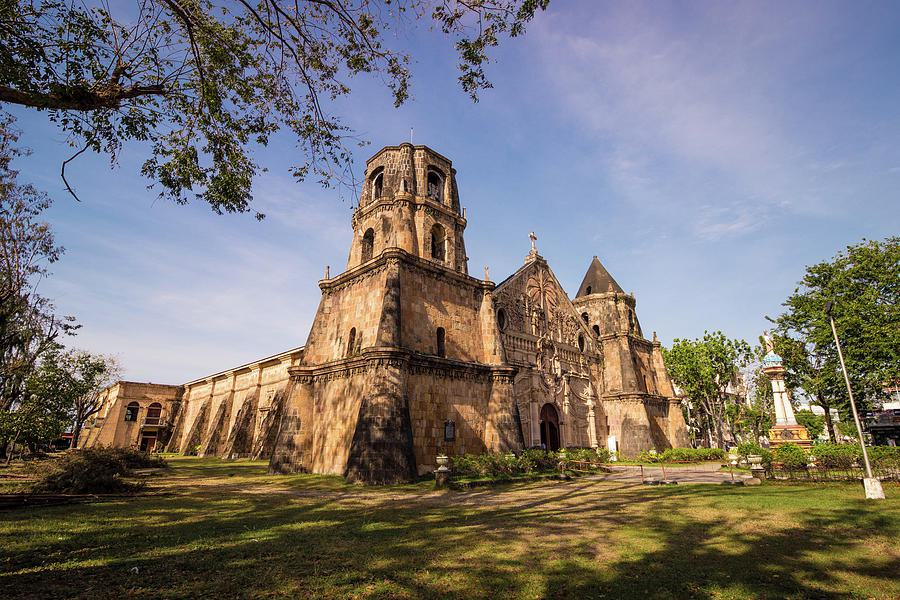Environmental Damage: (612, 293, 638, 309)
Miagao Church: (289, 124, 696, 467)
